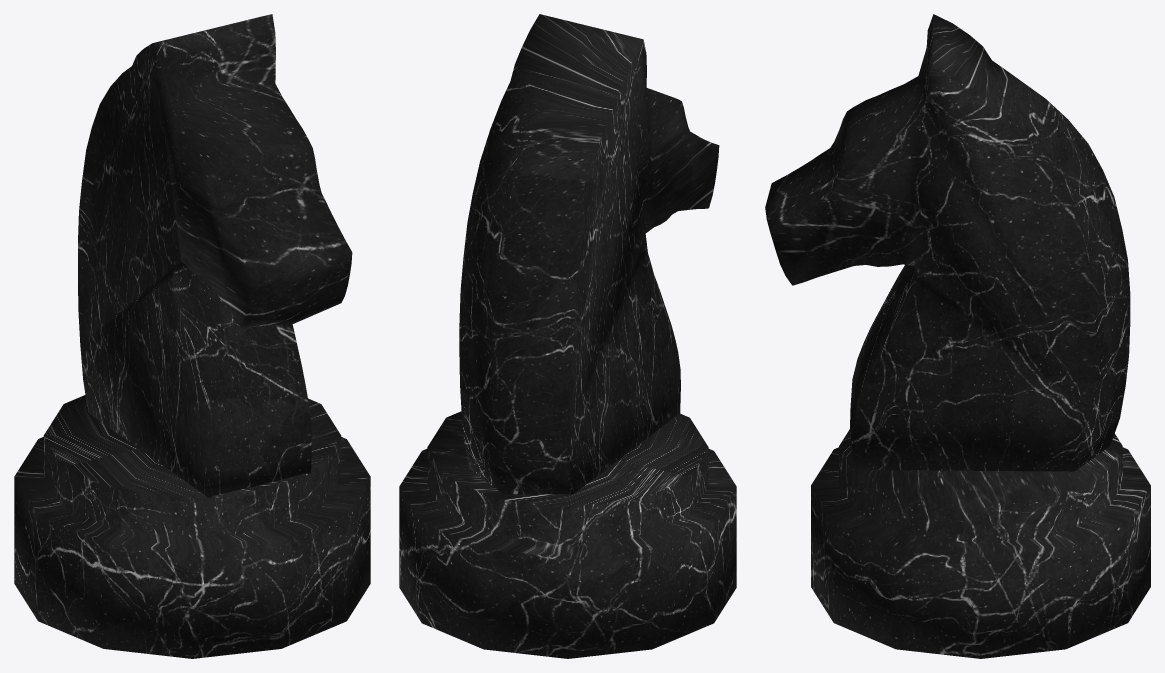
Rendered from CaballoNegro.glb.
3 renders of one model, left to right at view 1: azimuth 30°, elevation 25°; view 2: azimuth 150°, elevation 25°; view 3: azimuth 270°, elevation 25°, orthographic. The views are drawn at different scales.
Parts seen in each view (by area): view 1: Caballo; view 2: Caballo; view 3: Caballo.
Boxes of the visible parts, bbox=[...] form: Caballo: bbox=[14, 14, 370, 658]; Caballo: bbox=[399, 14, 736, 658]; Caballo: bbox=[765, 14, 1150, 658].
Bounding box in the file's own units: 0.7016 × 1.25 × 0.7963.
1 material, 1 textured.
